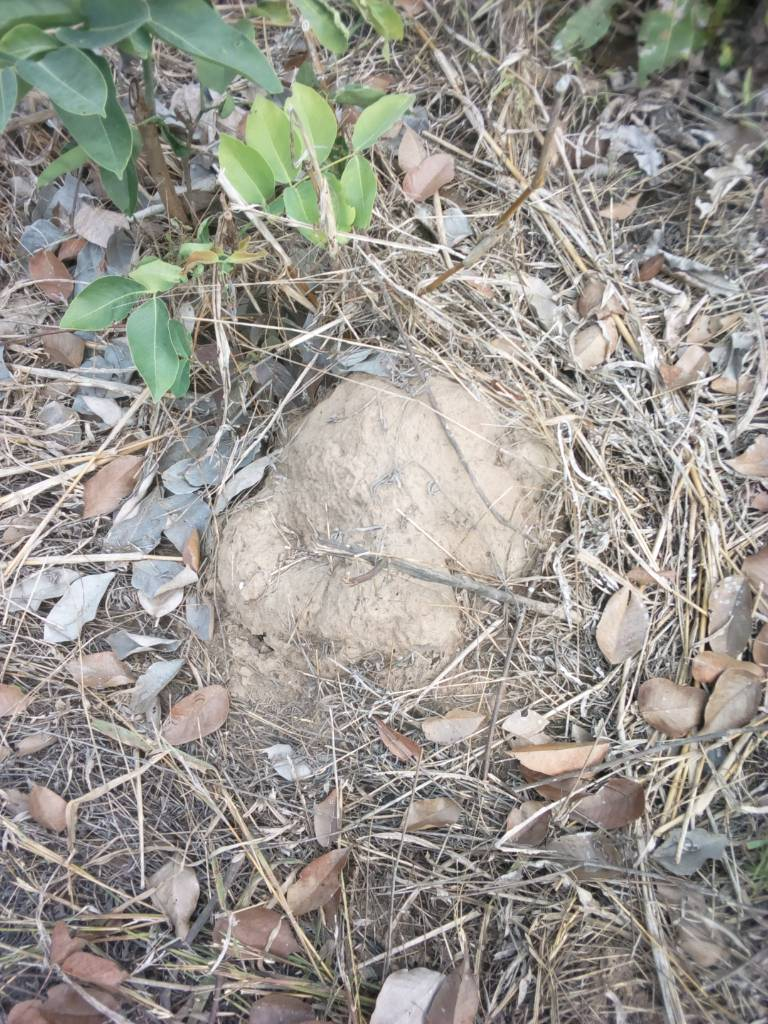Termites: (236, 396, 522, 638)
